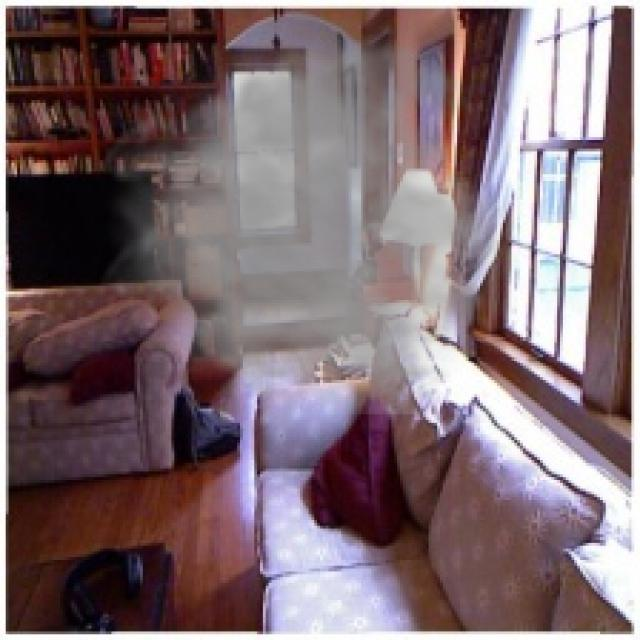Smoke: (97, 0, 518, 415)
